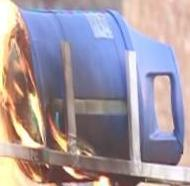cylinder: (1, 1, 190, 186)
